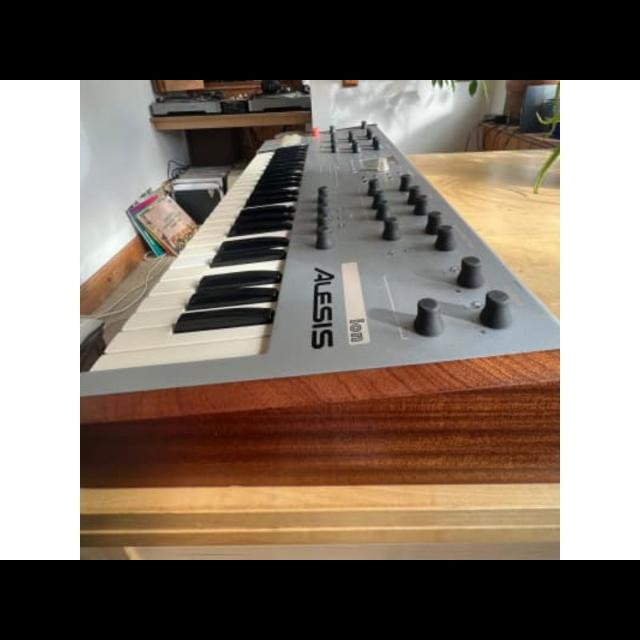Electronic-Keyboard: (115, 116, 542, 496)
